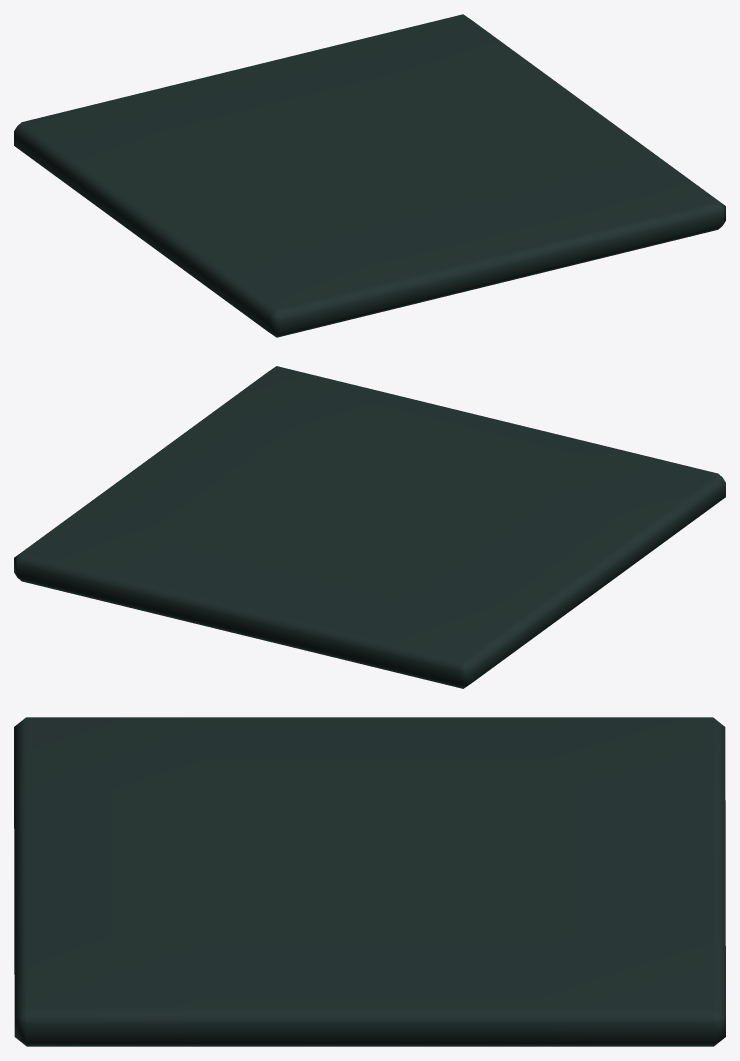
File: rock_top_8x8.fbx
3 views of the same model, one above another, from view 1: azimuth 30°, elevation 25°; view 2: azimuth 150°, elevation 25°; view 3: azimuth 270°, elevation 25° (orthographic). The views are drawn at different scales.
Parts seen in each view (by area): view 1: rock_top_8x8; view 2: rock_top_8x8; view 3: rock_top_8x8.
Boxes of the visible parts, left/top/right/bottom form: rock_top_8x8: left=14, top=14, right=725, bottom=337; rock_top_8x8: left=14, top=366, right=725, bottom=688; rock_top_8x8: left=14, top=717, right=725, bottom=1046.
Bounding box in the file's own units: 827 × 50 × 827.
